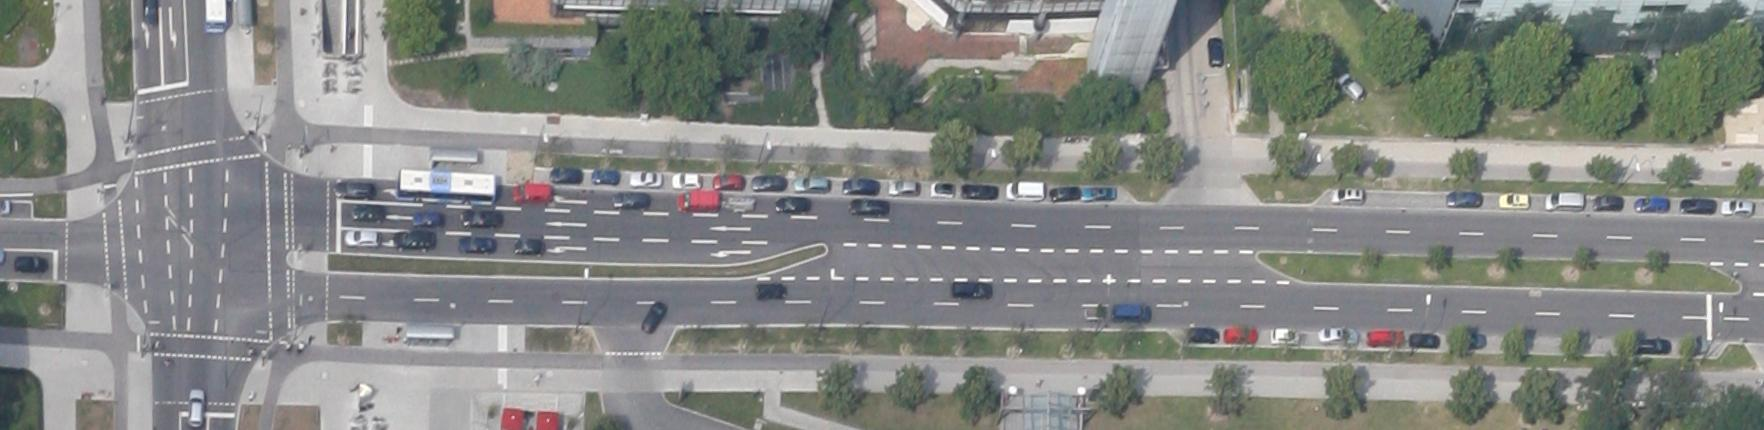car: (1334, 71, 1366, 104), (638, 300, 668, 334), (678, 190, 718, 212), (513, 182, 552, 204), (461, 209, 503, 229), (1545, 190, 1583, 212), (394, 230, 434, 250), (951, 281, 992, 300), (335, 179, 373, 199), (1005, 181, 1044, 200), (848, 198, 888, 216), (1111, 304, 1150, 322), (842, 178, 880, 196), (352, 204, 386, 224), (1318, 327, 1358, 344), (344, 229, 380, 247), (614, 192, 650, 210), (774, 196, 810, 214), (1446, 190, 1482, 208), (459, 237, 496, 254), (14, 256, 48, 274), (1186, 326, 1220, 344), (188, 388, 204, 426), (1366, 330, 1404, 346), (1680, 198, 1716, 214), (961, 183, 997, 199), (794, 177, 830, 193), (1636, 338, 1669, 355), (1270, 326, 1299, 345), (1720, 199, 1752, 216), (630, 170, 662, 187), (714, 172, 744, 190), (752, 175, 785, 191), (514, 238, 545, 255), (755, 283, 786, 300), (1224, 327, 1256, 343), (1408, 332, 1440, 348), (1330, 188, 1362, 204), (1082, 185, 1114, 201), (413, 210, 443, 227), (551, 167, 581, 184), (672, 172, 700, 190), (591, 167, 619, 185), (1208, 37, 1224, 68), (889, 180, 920, 196), (1592, 195, 1622, 211), (1498, 192, 1528, 208), (726, 196, 754, 213), (1634, 198, 1668, 212), (1051, 186, 1079, 202), (930, 182, 953, 198), (1083, 306, 1105, 322)
